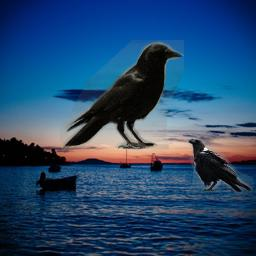Crow: (60, 40, 184, 153), (188, 136, 253, 195)
